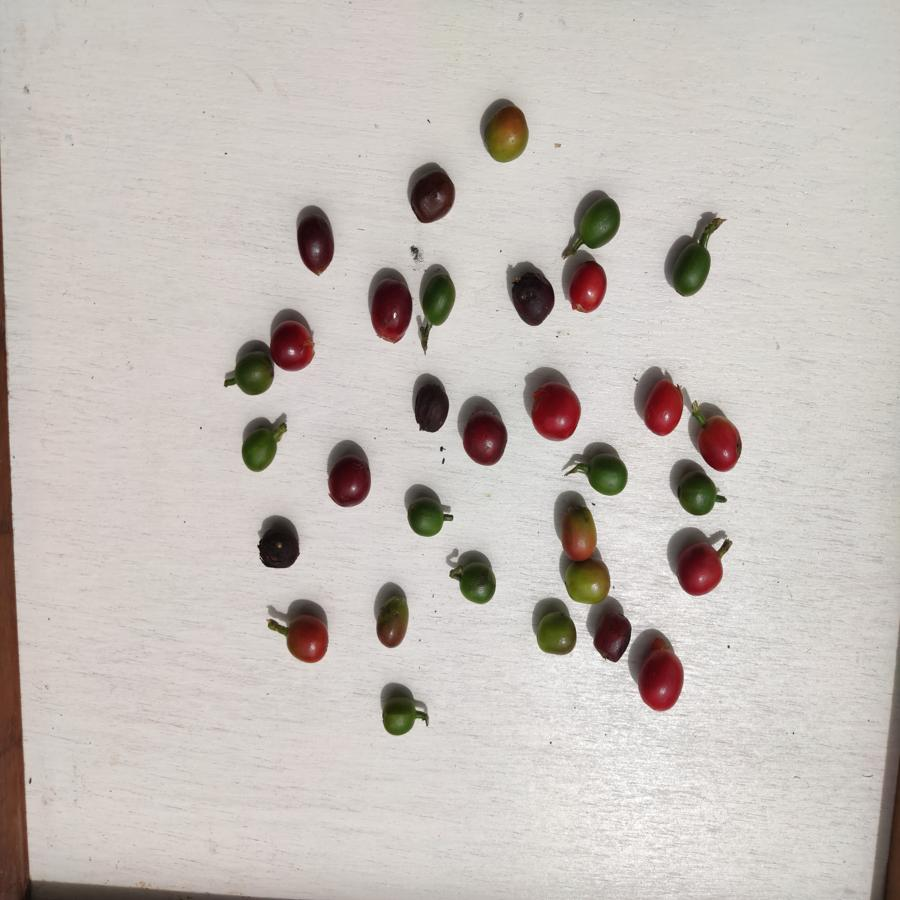Inmaduro: (578, 192, 623, 252), (670, 238, 715, 298), (419, 274, 458, 325), (676, 471, 719, 516), (587, 452, 629, 498), (456, 560, 498, 606), (238, 426, 279, 473), (233, 352, 275, 397), (406, 495, 445, 538), (379, 694, 418, 737)
Maduro: (637, 644, 686, 714), (529, 383, 584, 444), (695, 414, 746, 474), (640, 374, 686, 439), (284, 612, 335, 665), (269, 319, 317, 374), (678, 539, 723, 596), (568, 259, 610, 316)
Pinton: (482, 102, 530, 165), (563, 555, 612, 603), (558, 505, 598, 562), (533, 607, 576, 658), (374, 596, 410, 649)
Sobremaduro: (461, 408, 509, 469), (371, 278, 413, 345), (411, 165, 456, 224), (510, 269, 555, 327), (296, 216, 337, 276), (254, 524, 303, 573), (592, 607, 633, 662), (329, 454, 371, 507), (413, 380, 449, 433)
